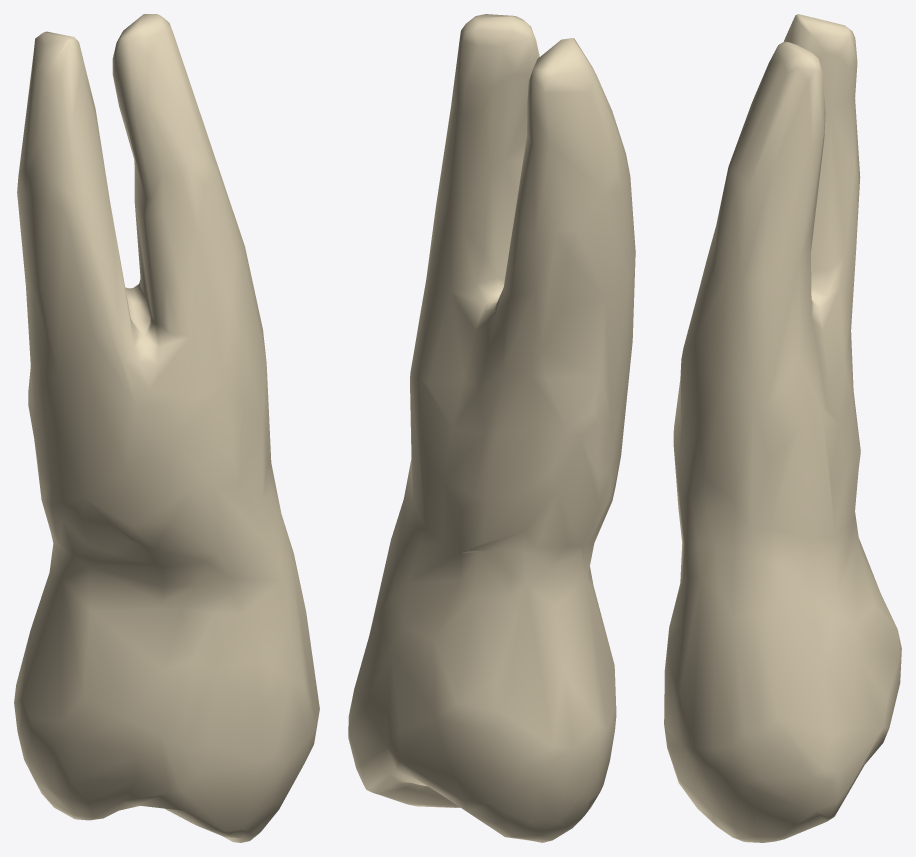
The model's file is esqueleto-upper-first-premolar-l.glb.
3 views of the same model, side by side, from view 1: azimuth 30°, elevation 25°; view 2: azimuth 150°, elevation 25°; view 3: azimuth 270°, elevation 25° (orthographic). The views are drawn at different scales.
Parts seen in each view (by area): view 1: Upper first premolar.l; view 2: Upper first premolar.l; view 3: Upper first premolar.l.
Part boxes in pixels (box(x1,y1,x2,y2)): Upper first premolar.l: box(14, 14, 319, 842); Upper first premolar.l: box(348, 14, 635, 842); Upper first premolar.l: box(664, 14, 901, 842).
Bounding box in the file's own units: 0.00931 × 0.0277 × 0.00786.
